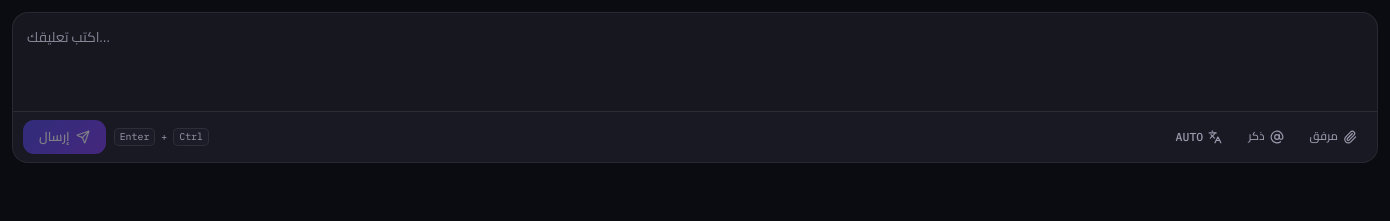
Test: CommentComposer — mentions › offers a picker filtered by what is typed after the @
Type "@sar" into the text box.
click(695, 62); type("@sar")  # box [13, 13, 1377, 111]
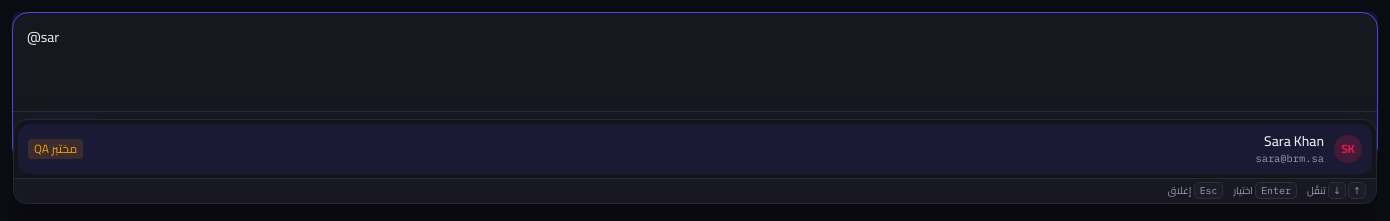
Check: the option "SK Sara Khan sara@brm.sa مختبر QA" is shown, box [18, 124, 1372, 174]
